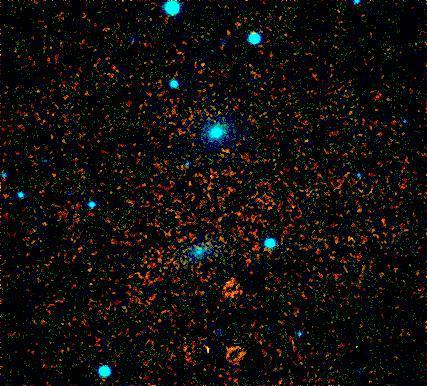star: (193, 50, 223, 80)
